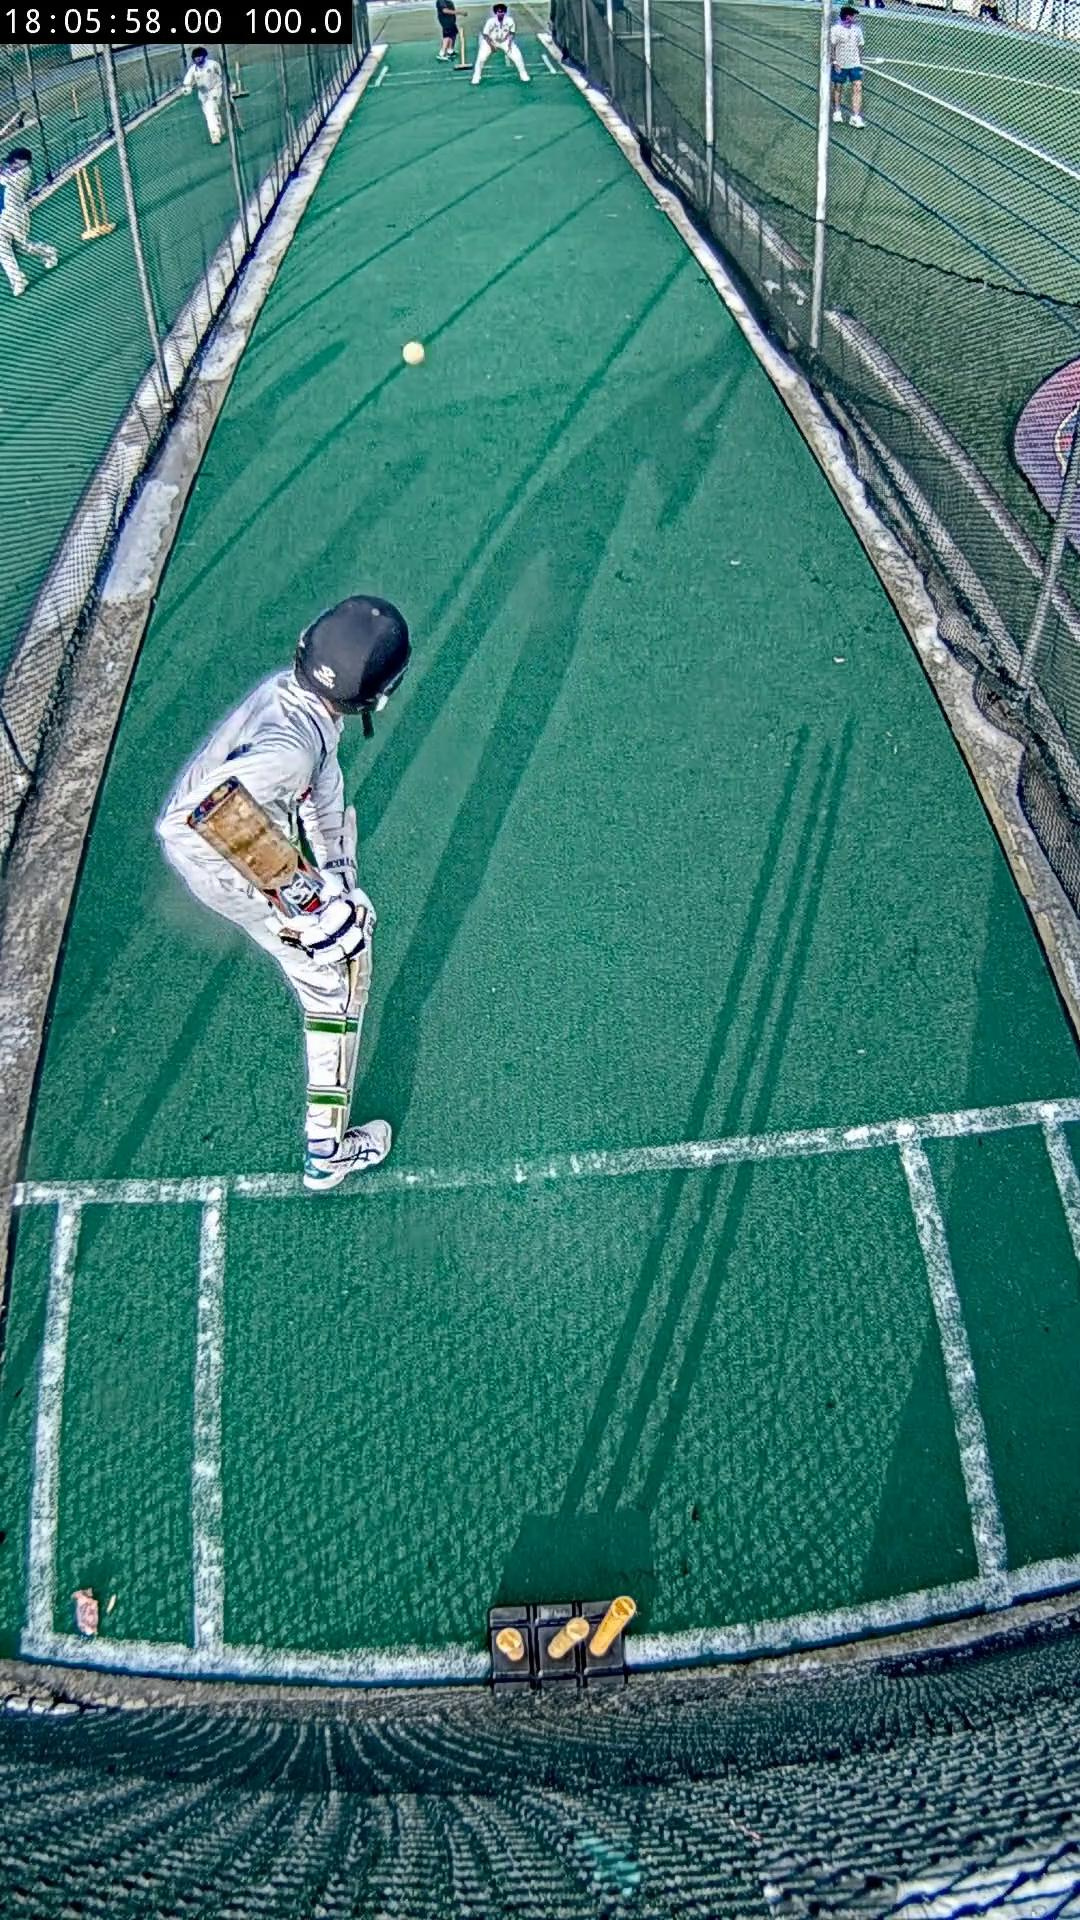ball: (401, 342, 423, 364)
bat: (187, 781, 323, 919)
gloves: (281, 893, 372, 964)
helmet: (297, 596, 409, 712)
pads: (338, 945, 372, 1098)
stumps: (488, 1594, 637, 1684)
